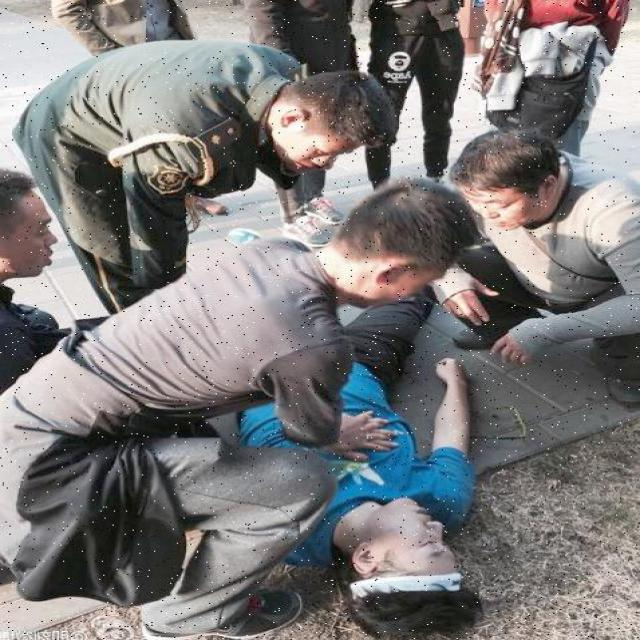fall: (232, 274, 512, 635)
